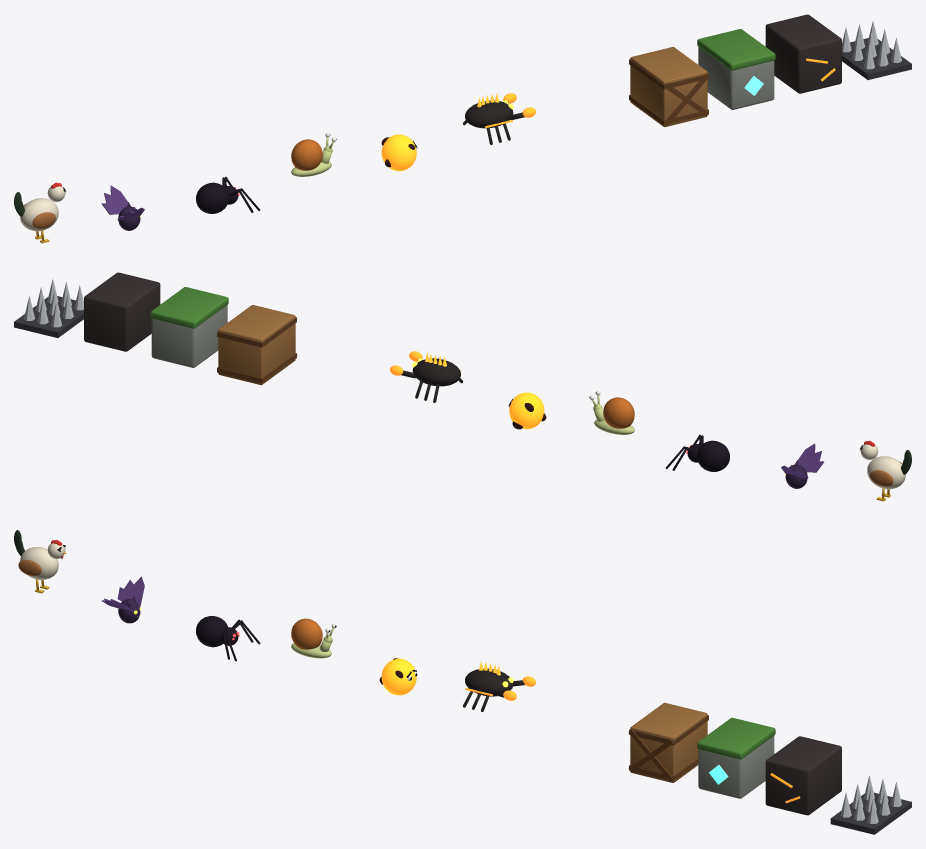
The model's file is enemies.glb.
3 views of the same model, one above another, from view 1: azimuth 30°, elevation 25°; view 2: azimuth 150°, elevation 25°; view 3: azimuth 330°, elevation 25° (orthographic).
Parts seen in each view (by area): view 1: BasaltBody, CrateBody, StoneBody, StoneMoss, SpikeBase, BlobBody, CrabBody, Abdomen, Coil0, AyamBody, WingMeshL; view 2: BasaltBody, CrateBody, StoneBody, StoneMoss, SpikeBase, CrabBody, BlobBody, Abdomen, Coil0, AyamBody, WingMeshR; view 3: BasaltBody, CrateBody, StoneBody, StoneMoss, SpikeBase, BlobBody, CrabBody, Coil0, Abdomen, AyamBody.
Part boxes in pixels (left/top/right/bottom): BasaltBody: left=765, top=14, right=841, bottom=93; CrateBody: left=630, top=47, right=707, bottom=127; StoneBody: left=698, top=47, right=774, bottom=109; StoneMoss: left=697, top=29, right=775, bottom=70; SpikeBase: left=842, top=38, right=911, bottom=79; BlobBody: left=381, top=134, right=416, bottom=171; CrabBody: left=465, top=100, right=513, bottom=128; Abdomen: left=196, top=182, right=229, bottom=213; Coil0: left=291, top=139, right=322, bottom=170; AyamBody: left=20, top=198, right=58, bottom=231; WingMeshL: left=102, top=185, right=128, bottom=214; BasaltBody: left=84, top=272, right=160, bottom=351; CrateBody: left=218, top=305, right=295, bottom=385; StoneBody: left=151, top=305, right=227, bottom=367; StoneMoss: left=150, top=287, right=228, bottom=328; SpikeBase: left=14, top=296, right=83, bottom=337; CrabBody: left=412, top=358, right=460, bottom=386; BlobBody: left=509, top=392, right=544, bottom=429; Abdomen: left=696, top=440, right=729, bottom=471; Coil0: left=603, top=397, right=634, bottom=428; AyamBody: left=867, top=456, right=905, bottom=489; WingMeshR: left=797, top=443, right=823, bottom=472; BasaltBody: left=765, top=736, right=841, bottom=815; CrateBody: left=630, top=702, right=707, bottom=782; StoneBody: left=698, top=736, right=774, bottom=798; StoneMoss: left=697, top=717, right=775, bottom=759; SpikeBase: left=830, top=792, right=911, bottom=834; BlobBody: left=381, top=658, right=416, bottom=695; CrabBody: left=465, top=668, right=513, bottom=696; Coil0: left=291, top=618, right=322, bottom=649; Abdomen: left=196, top=616, right=227, bottom=647; AyamBody: left=20, top=547, right=58, bottom=579.
Size of the model in its own units: 19.55 by 1.65 by 1.44.
